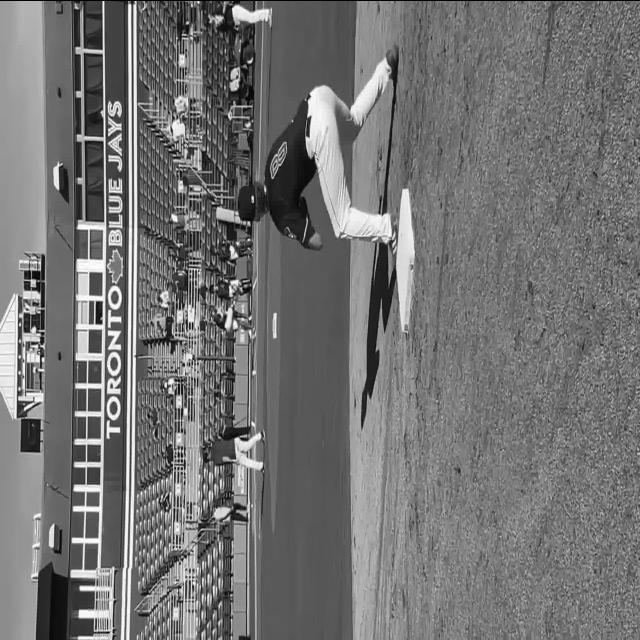base: (398, 181, 413, 332)
baseball: (252, 368, 256, 376)
shoe: (388, 210, 398, 256), (386, 46, 398, 80), (267, 7, 273, 29), (260, 429, 265, 443), (260, 461, 264, 473), (251, 420, 255, 428)
